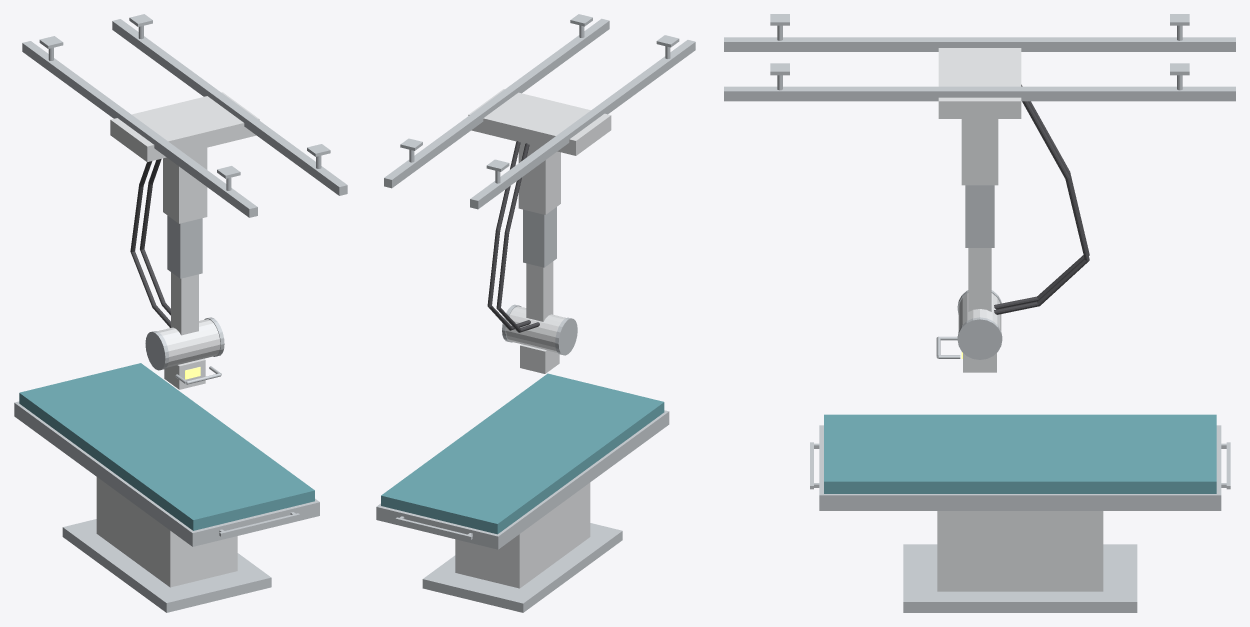
Rendered from xray_bed_v1.fbx.
The picture shows the model from 3 angles, left to right: view 1: azimuth 30°, elevation 25°; view 2: azimuth 150°, elevation 25°; view 3: azimuth 270°, elevation 25°; orthographic projection. The views are drawn at different scales.
Parts seen in each view (by area): view 1: 01_XrayCrane_Intact_Table_Cushion_Mat, 01_XrayCrane_Intact_Telescopic_Arm_Carriage; view 2: 01_XrayCrane_Intact_Table_Cushion_Mat, 01_XrayCrane_Intact_Telescopic_Arm_Carriage; view 3: 01_XrayCrane_Intact_Table_Cushion_Mat, 01_XrayCrane_Intact_Telescopic_Arm_Carriage.
Boxes of the visible parts, x1,y1,x2,y2 form: 01_XrayCrane_Intact_Table_Cushion_Mat: [14, 363, 319, 612]; 01_XrayCrane_Intact_Telescopic_Arm_Carriage: [22, 14, 347, 389]; 01_XrayCrane_Intact_Table_Cushion_Mat: [376, 373, 669, 612]; 01_XrayCrane_Intact_Telescopic_Arm_Carriage: [384, 14, 695, 373]; 01_XrayCrane_Intact_Table_Cushion_Mat: [810, 414, 1230, 612]; 01_XrayCrane_Intact_Telescopic_Arm_Carriage: [724, 14, 1235, 372].
Bounding box in the file's own units: 68 × 245 × 210.
